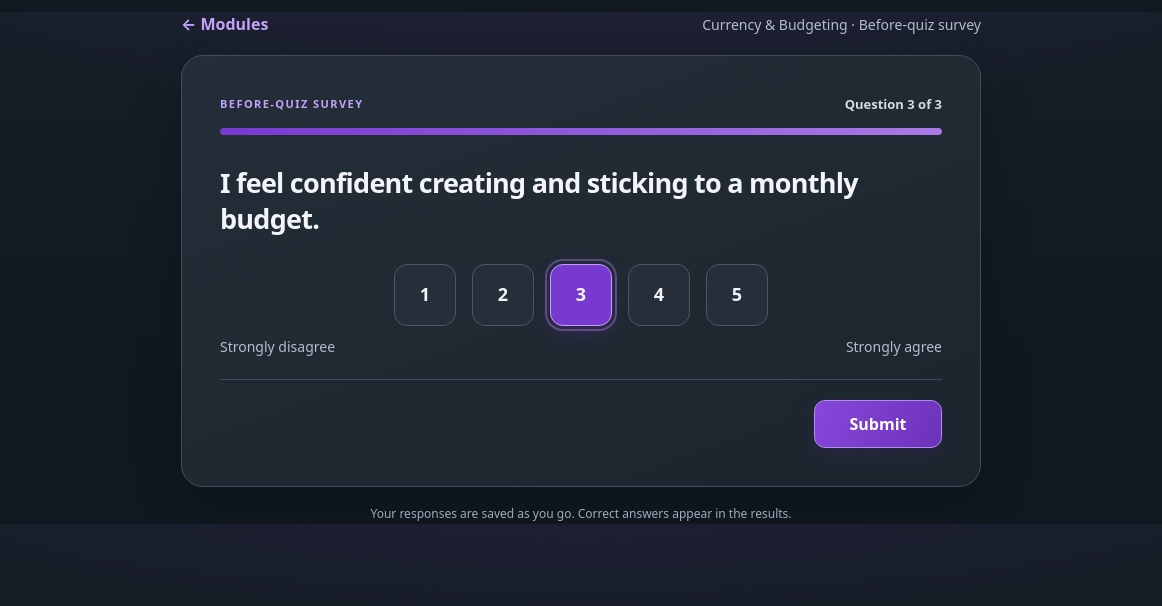
Question shell › last question says Submit and disables while sending (#82)
The image size is (1162, 606).
Step 1. Click the button "Submit" → click(878, 424), box [814,400,942,448]
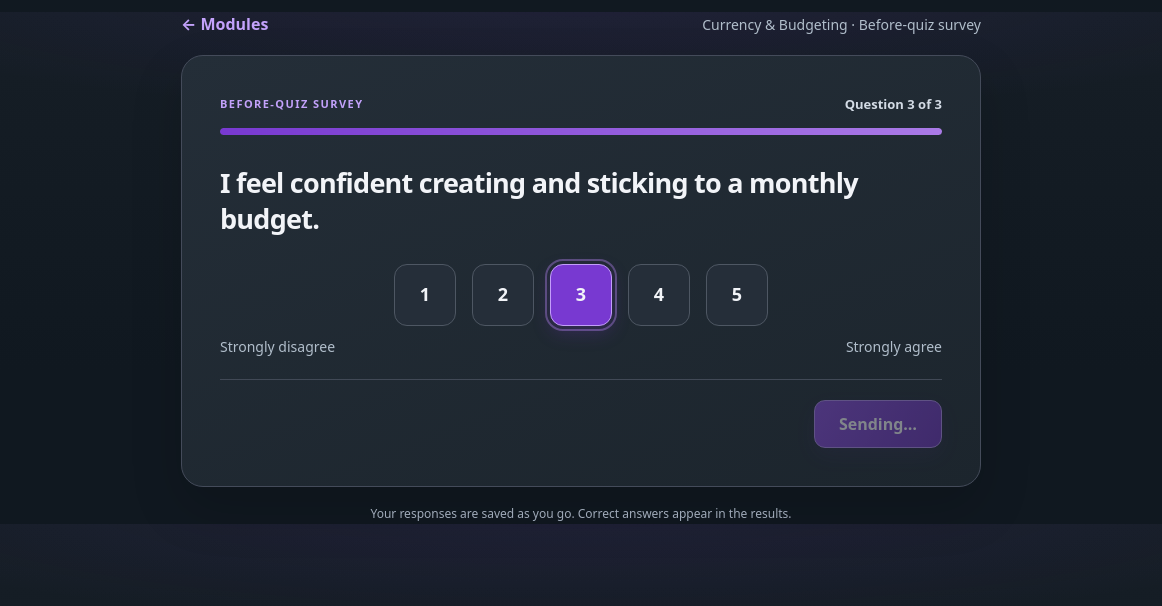
Result: the button "Sending…" is disabled
Step 2. Click the button "Sending…" → click(878, 424), box [814,400,942,448]
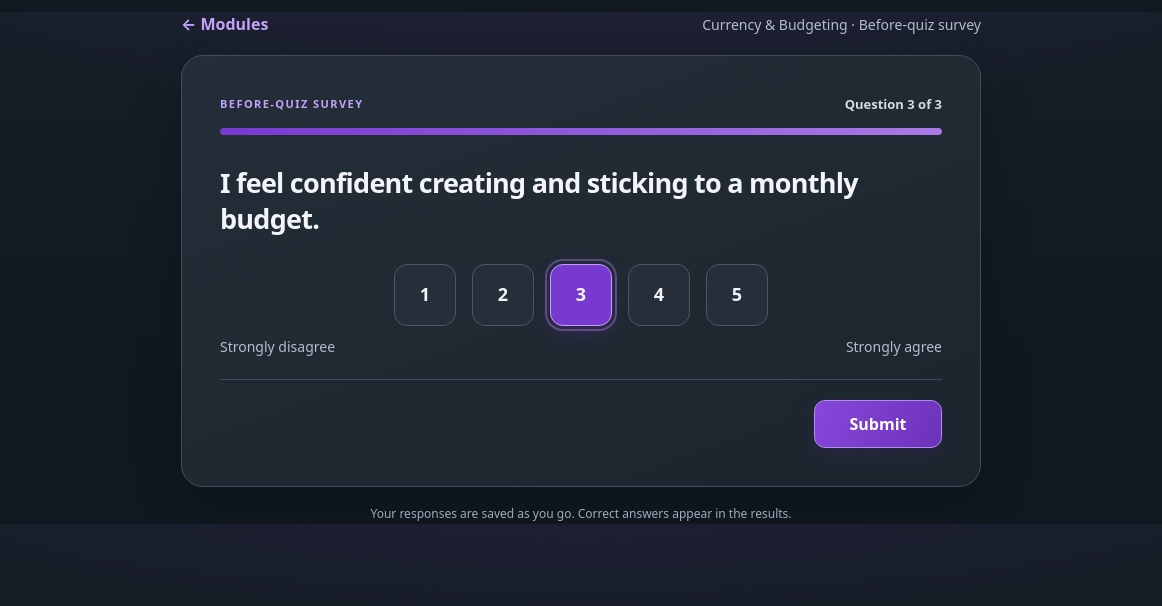
Result: the button "Submit" is enabled at [814,400,942,448]
